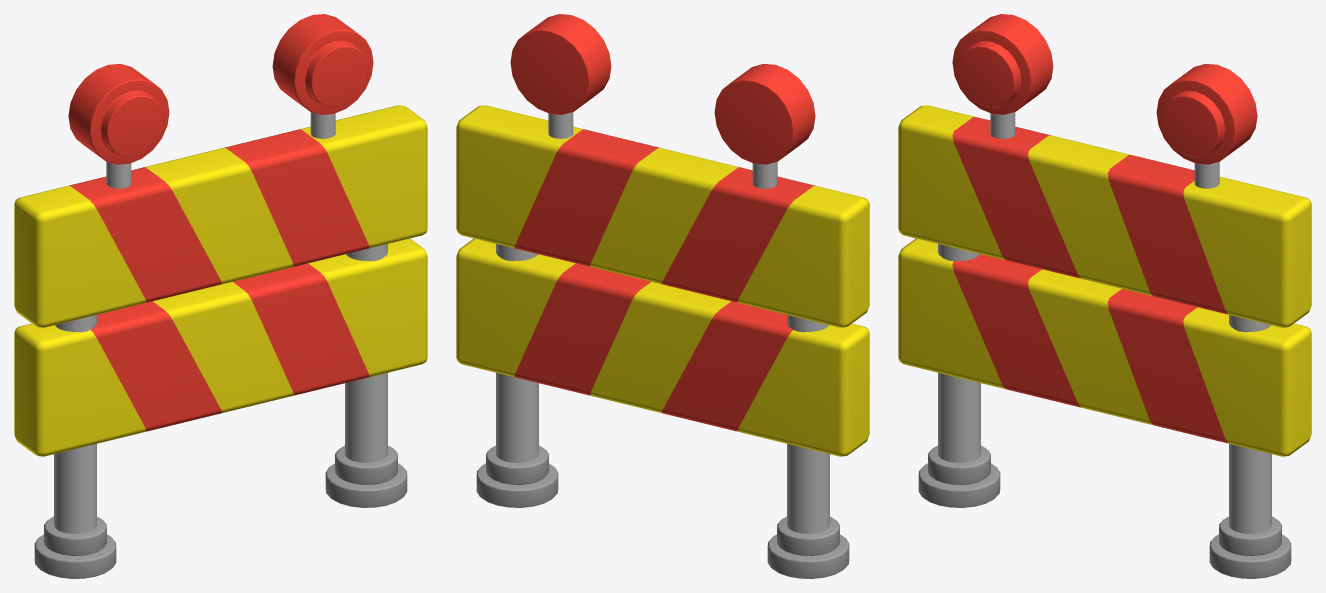
File: Public_11_Road_Barrier_1.glb
The picture shows the model from 3 angles, left to right: view 1: azimuth 30°, elevation 25°; view 2: azimuth 150°, elevation 25°; view 3: azimuth 330°, elevation 25°; orthographic projection.
Visible parts, largest first — view 1: Public_11_Road_Barrier_1; view 2: Public_11_Road_Barrier_1; view 3: Public_11_Road_Barrier_1.
Boxes of the visible parts, <box> form: Public_11_Road_Barrier_1: <box>14,14,427,578</box>; Public_11_Road_Barrier_1: <box>456,14,869,578</box>; Public_11_Road_Barrier_1: <box>898,14,1311,578</box>.
Size of the model in its own units: 2.02 by 2.36 by 0.3679.
1 material, 1 textured.
